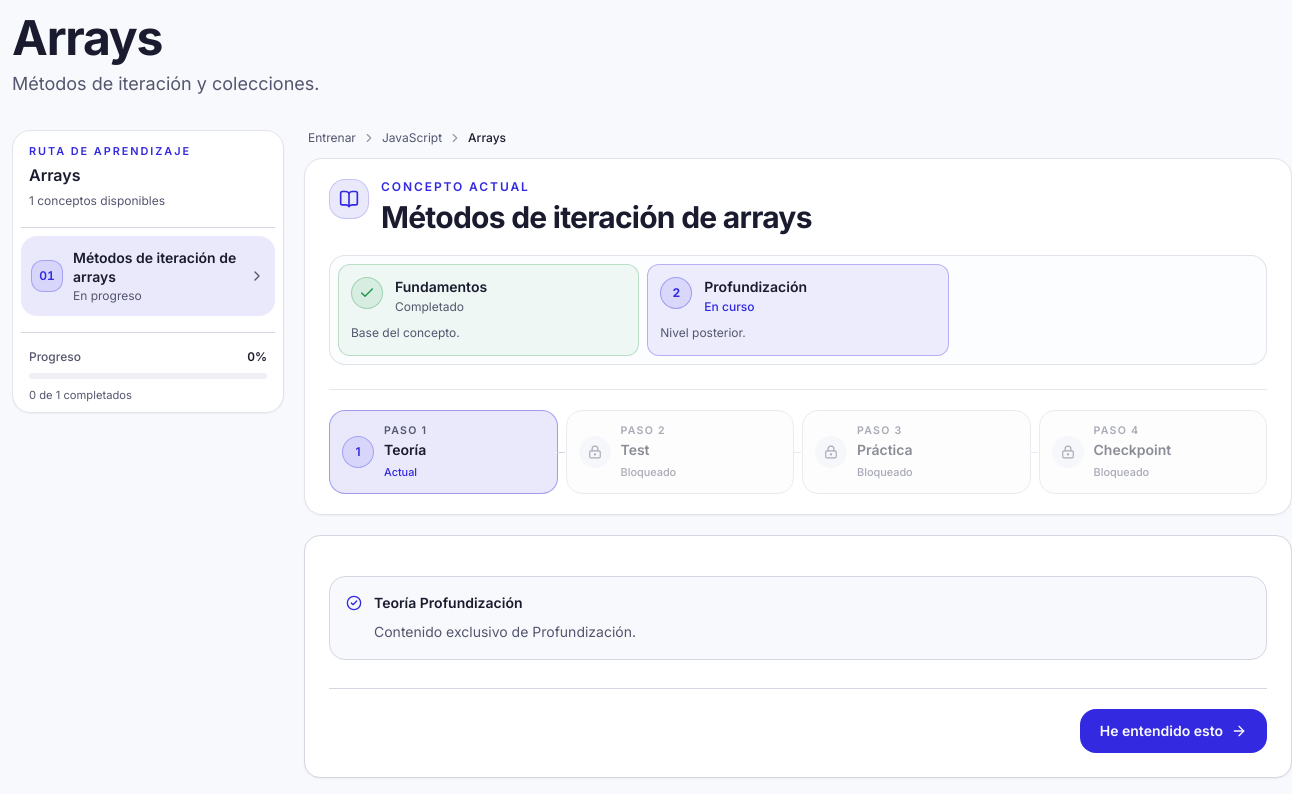
Test: TopicPage (T057) › completa la teoría del nivel deepening cuando es el nivel activo
(page scrolled)
Expected: the text "Contenido exclusivo de Profundización." is shown, 374,621 -> 636,644
Expected: the text "Completado" is shown, 395,299 -> 464,314
Click the button "He entendido esto" at (1173, 731), box 1080,709 -> 1267,753
(page scrolled)
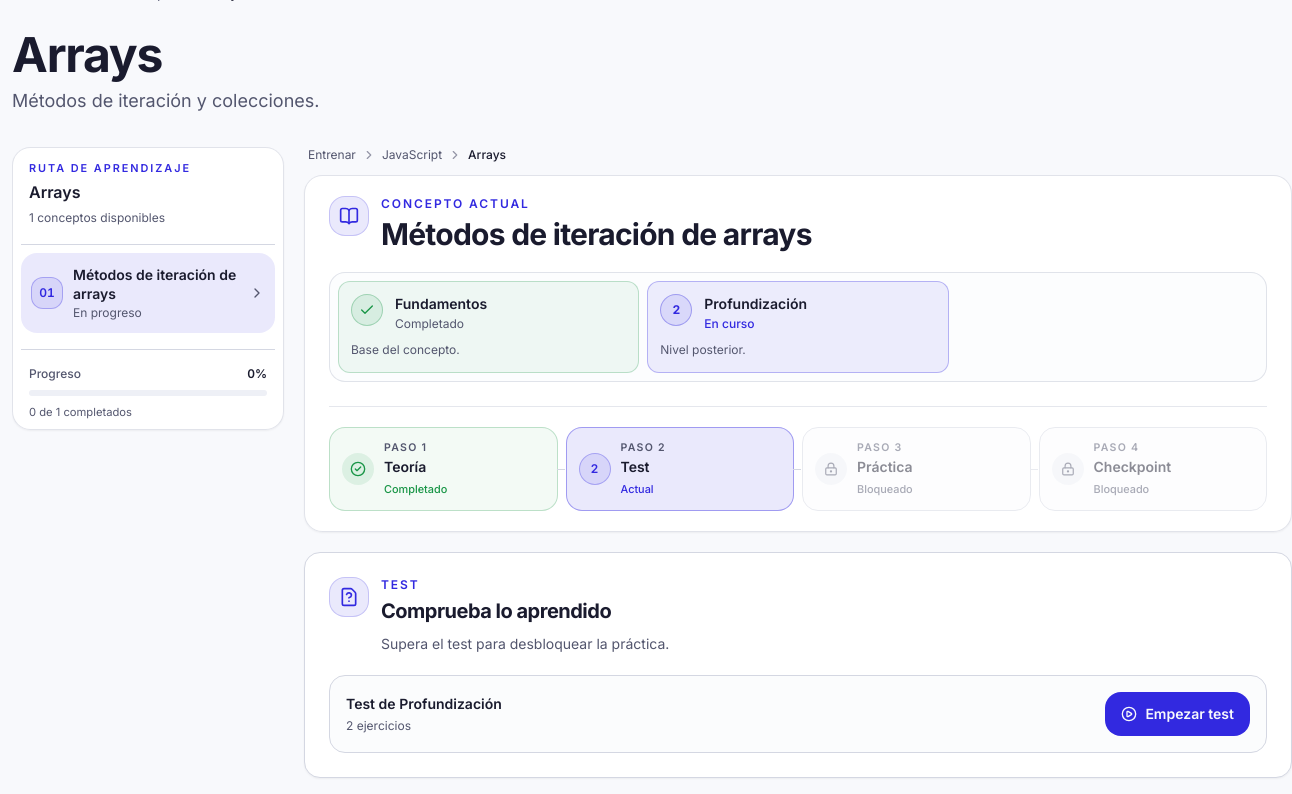
Expected: the button "2 Paso 2 Test Actual" is enabled, 566,426 -> 794,511
